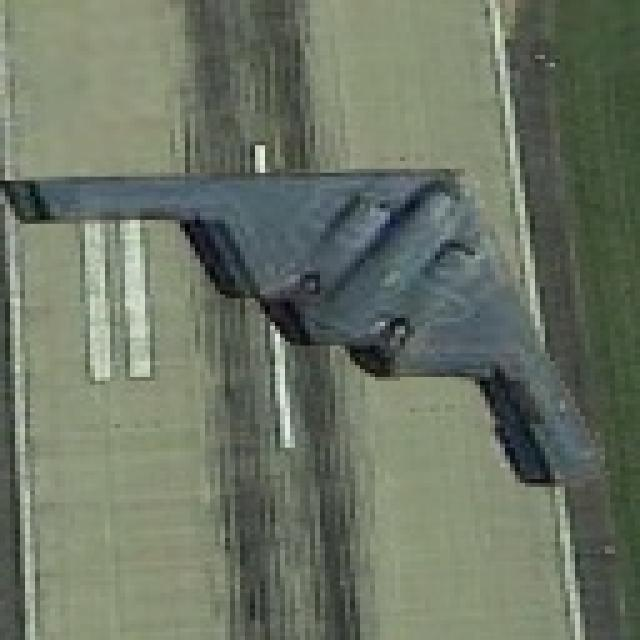B-2_TopDown: (0, 138, 619, 490)
